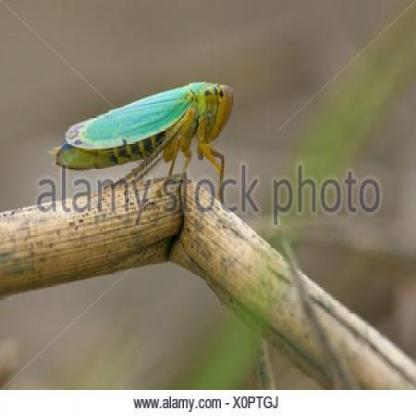Green-Leafhopper: (46, 75, 237, 205)
